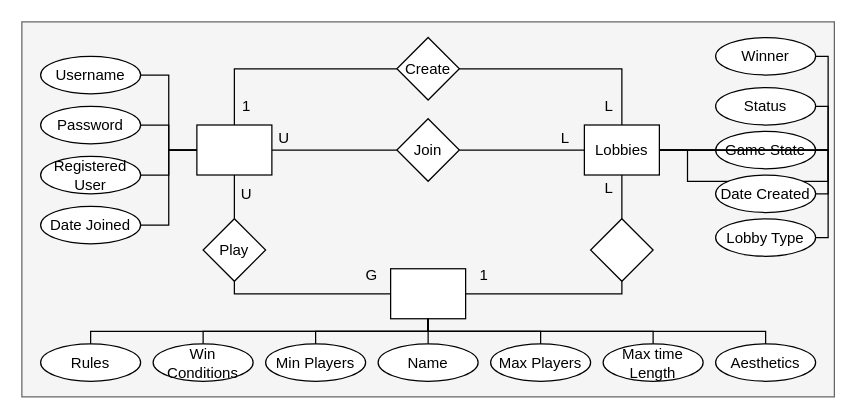
Image size: 856x419. Some labels were removed from this diagram. The box of each missing label's shape, as (x1, y1, x2, y2) in pixels:
Games: (389, 268, 466, 319)
Host: (589, 218, 653, 281)
Users: (196, 124, 272, 175)
